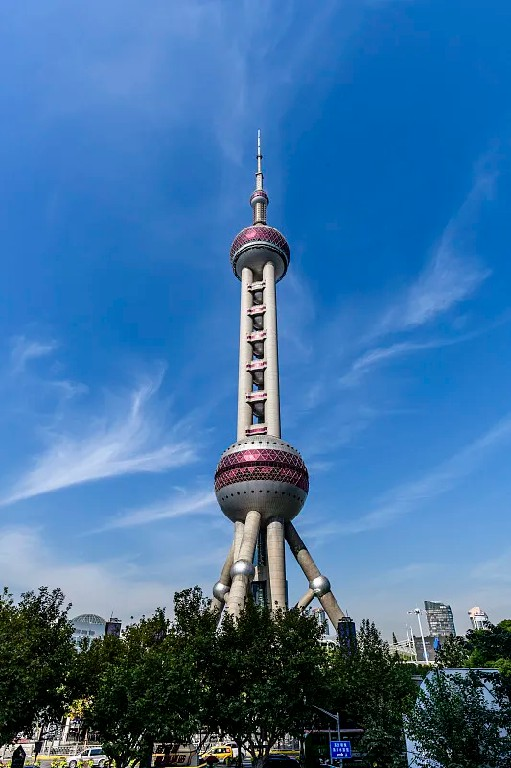Oriental: (211, 131, 352, 629)
